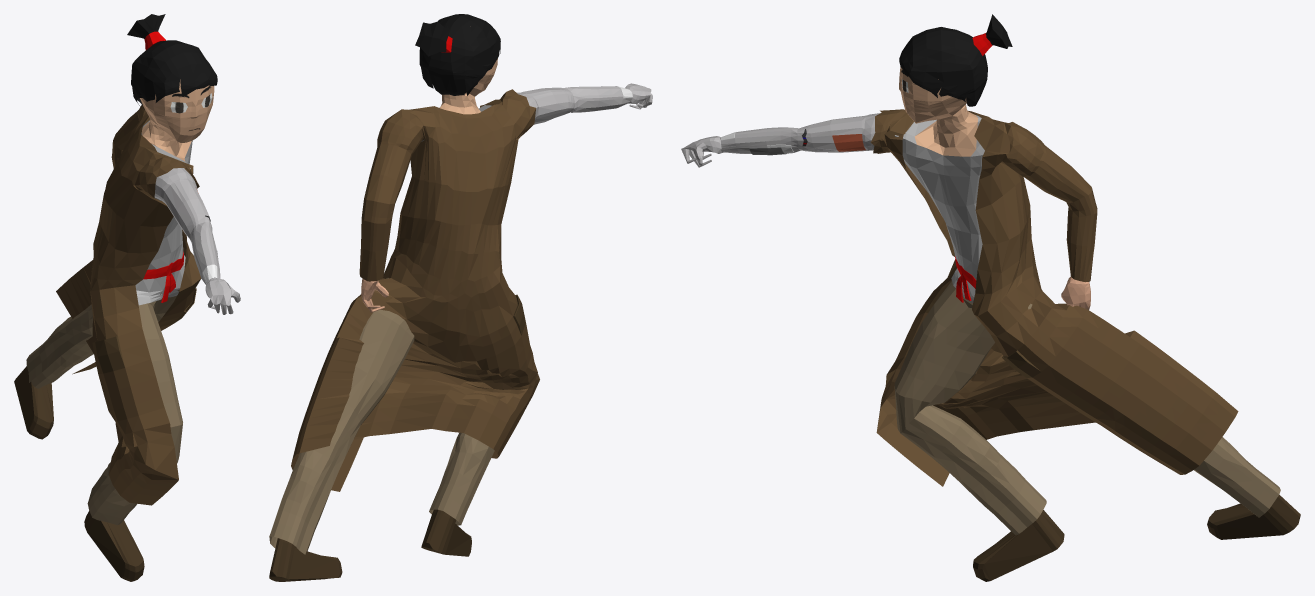
The model's file is OneAnimationTest_000007.obj.
The picture shows the model from 3 angles, left to right: view 1: azimuth 30°, elevation 25°; view 2: azimuth 150°, elevation 25°; view 3: azimuth 270°, elevation 25°; orthographic projection. The views are drawn at different scales.
Parts seen in each view (by area): view 1: Jacket_Cube, Body_Cube.003, Hair_Cube.004; view 2: Jacket_Cube, Body_Cube.003, Hair_Cube.004; view 3: Jacket_Cube, Body_Cube.003, Hair_Cube.004.
Boxes of the visible parts, x1,y1,x2,y2 form: Jacket_Cube: [56, 105, 201, 505]; Body_Cube.003: [14, 79, 240, 581]; Hair_Cube.004: [127, 14, 217, 106]; Jacket_Cube: [291, 89, 539, 491]; Body_Cube.003: [269, 58, 652, 581]; Hair_Cube.004: [415, 14, 500, 95]; Jacket_Cube: [870, 109, 1238, 486]; Body_Cube.003: [681, 66, 1300, 581]; Hair_Cube.004: [899, 14, 1012, 106].
Bounding box in the file's own units: 0.9982 × 3.65 × 3.57.
